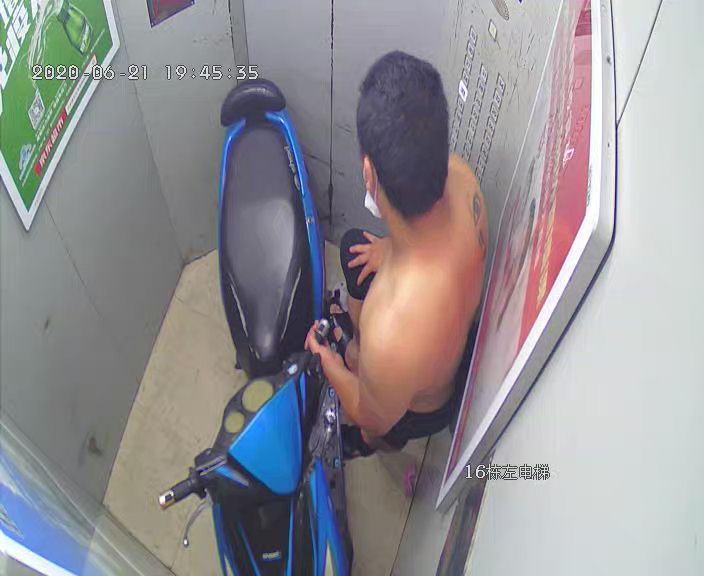Electric-bicycle: (158, 74, 348, 576)
